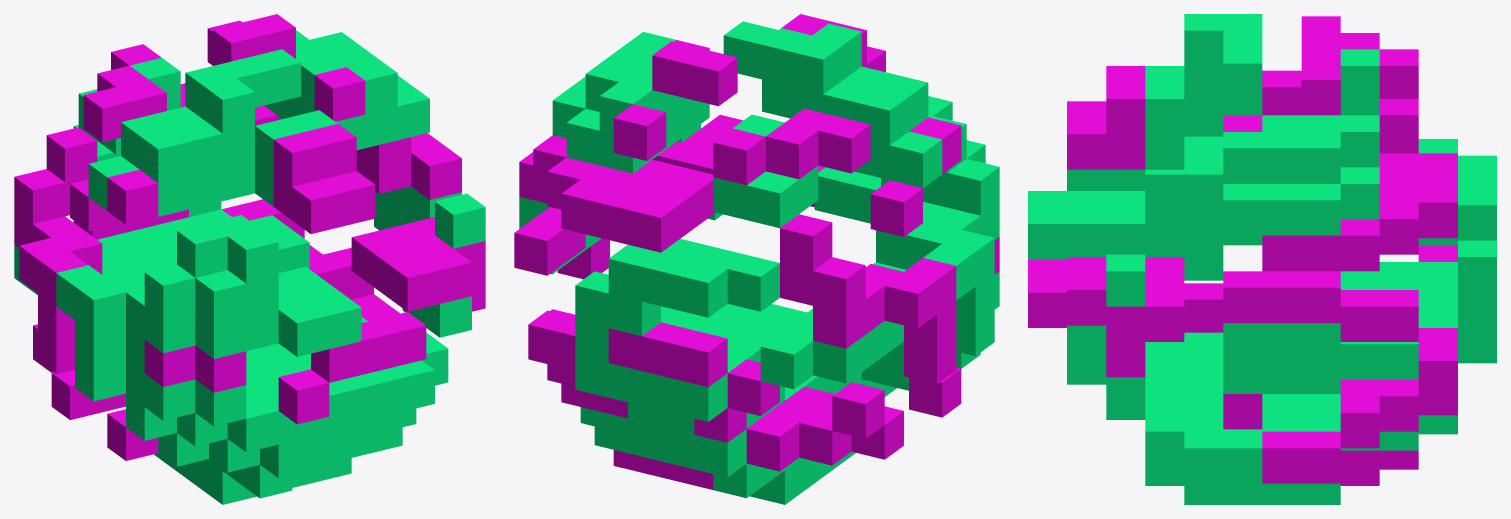
File: luz-12b.obj
3 renders of one model, left to right at view 1: azimuth 30°, elevation 25°; view 2: azimuth 150°, elevation 25°; view 3: azimuth 270°, elevation 25°, orthographic. The views are drawn at different scales.
Size of the model in its own units: 1.2 by 1.2 by 1.2.
Materials: 1 (1 with a texture image).
